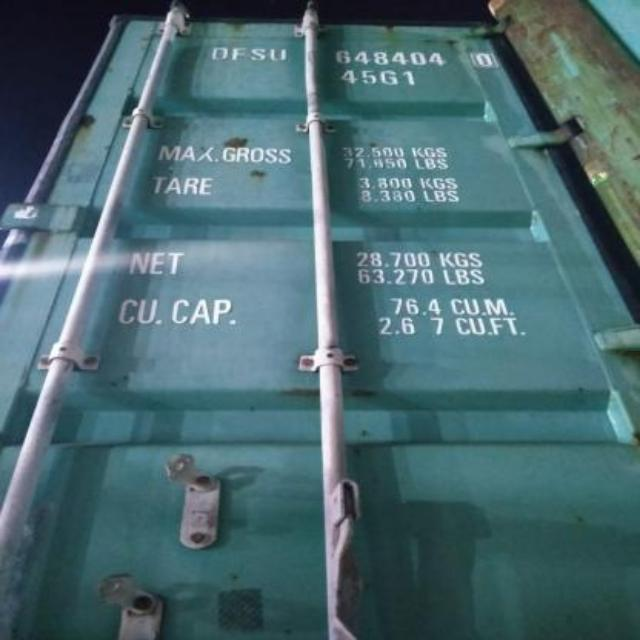0: (470, 48, 500, 68), (410, 42, 426, 70)
4: (352, 42, 368, 68), (430, 44, 446, 70), (391, 44, 409, 66)
6: (333, 43, 353, 69)
8: (372, 43, 388, 67)
D: (210, 40, 228, 66)
F: (229, 41, 247, 68)
S: (249, 40, 267, 70)
U: (268, 39, 288, 69)
